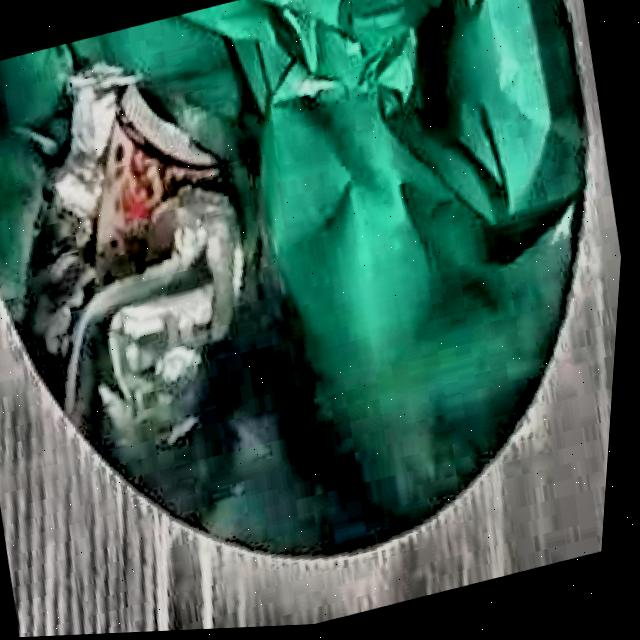plastic: (23, 65, 245, 455)
